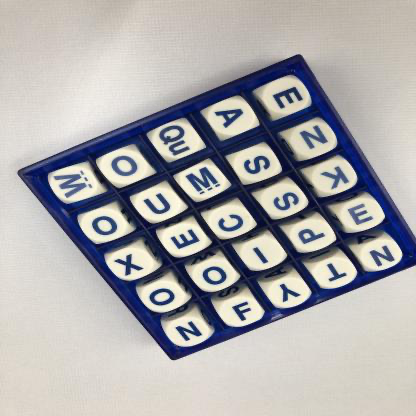a: (207, 99, 255, 135)
c: (209, 206, 254, 239)
e: (261, 79, 312, 115), (164, 225, 207, 257), (342, 199, 384, 231)
f: (221, 298, 264, 328)
i: (242, 240, 284, 271)
k: (314, 163, 358, 196)
m: (179, 164, 229, 198)
n: (288, 123, 337, 158), (360, 241, 403, 272), (168, 319, 209, 348)
o: (100, 149, 146, 186), (81, 209, 129, 242), (193, 260, 237, 292), (143, 282, 187, 313)
p: (291, 221, 333, 253)
qu: (154, 122, 203, 158)
s: (234, 146, 281, 181), (263, 183, 308, 218)
t: (314, 259, 358, 289)
u: (137, 188, 182, 222)
w: (49, 165, 97, 202)
x: (108, 249, 156, 280)
y: (270, 278, 311, 310)
